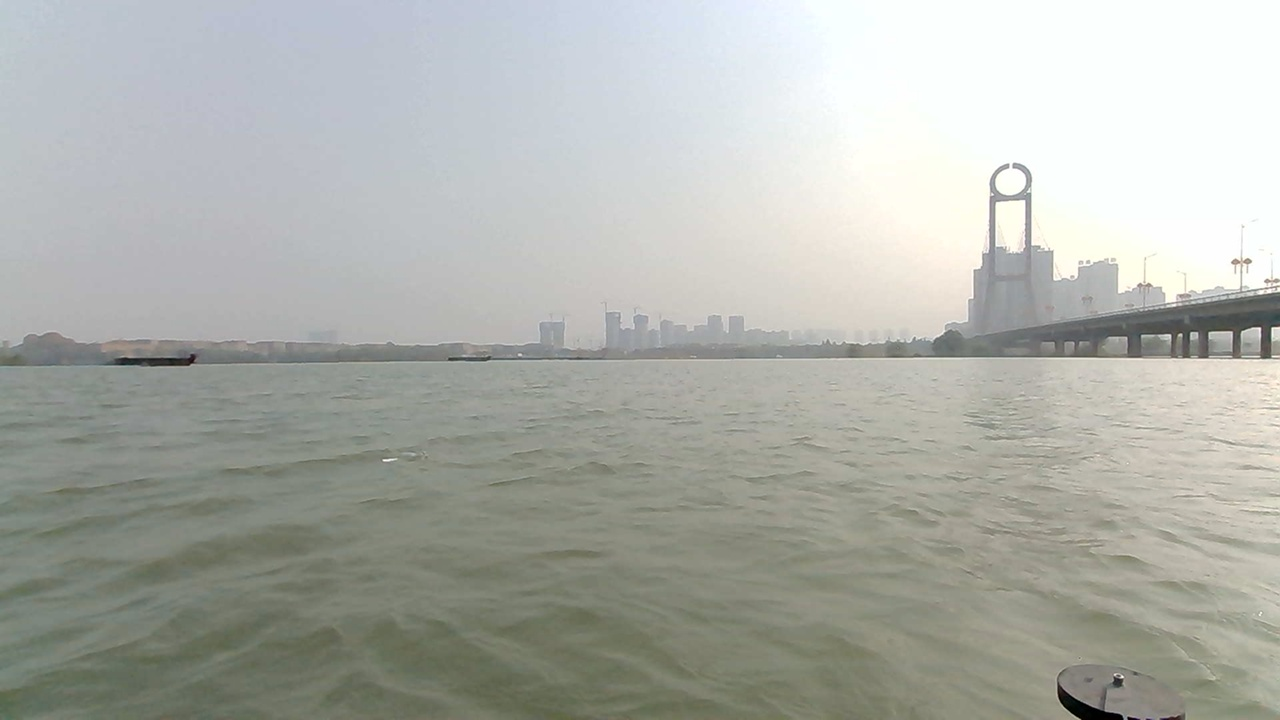bottle: (353, 434, 456, 481)
